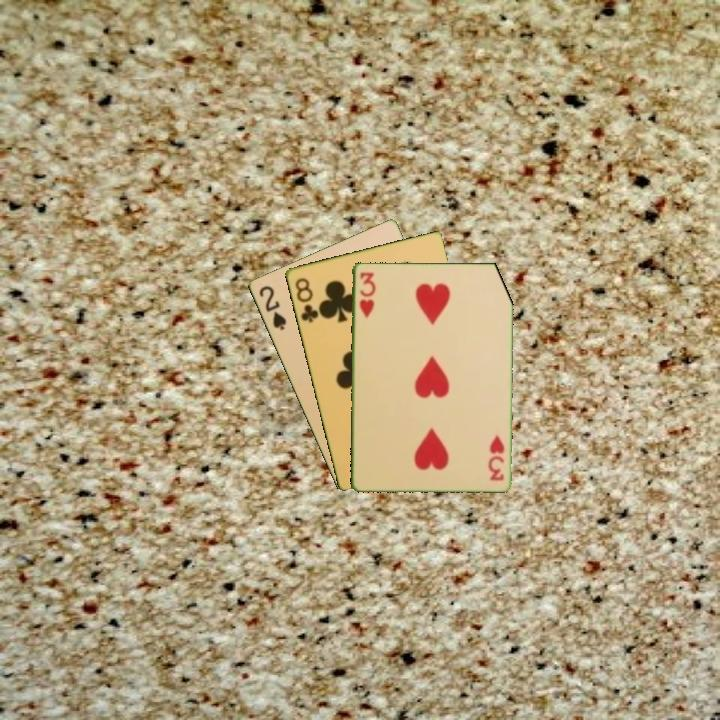2s: (255, 282, 289, 333)
3h: (485, 431, 507, 483), (356, 268, 377, 320)
8c: (291, 274, 321, 325)
